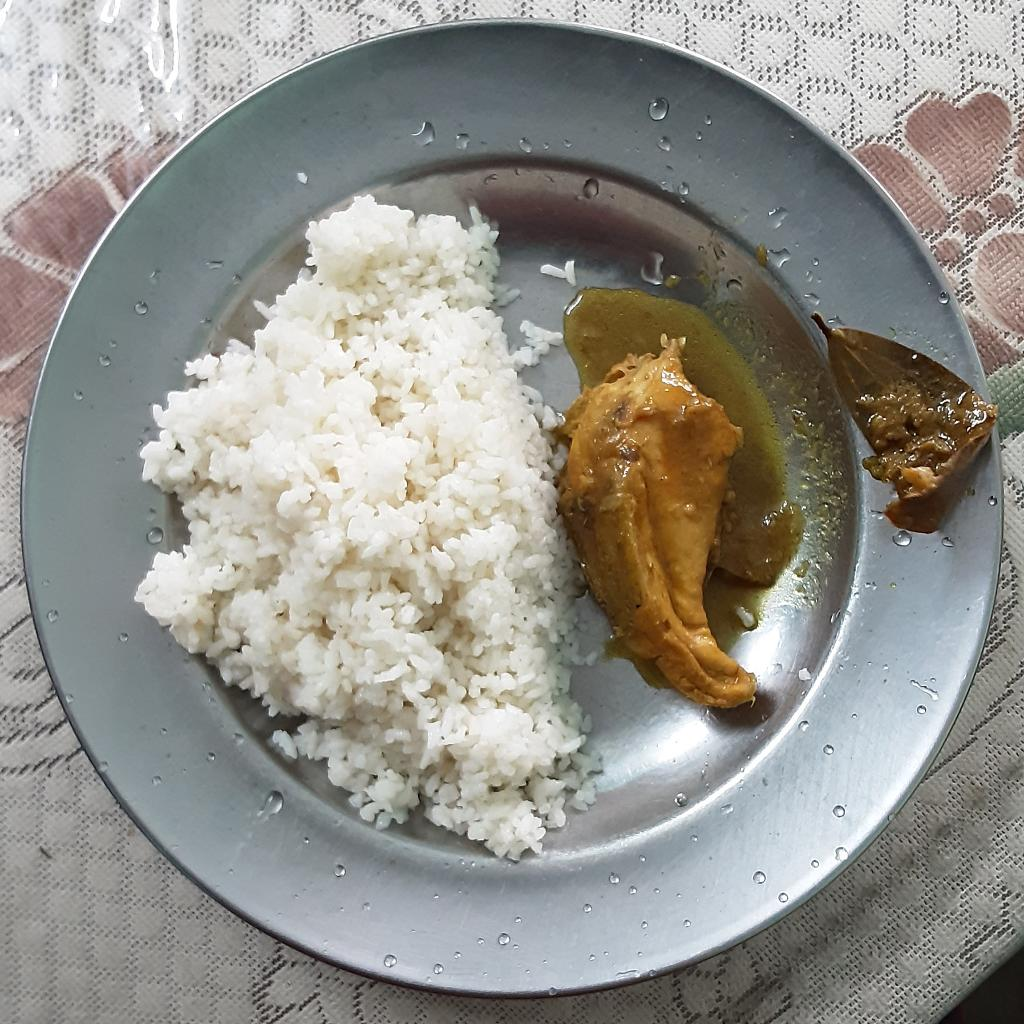chicken: (559, 338, 755, 707)
rice: (133, 189, 602, 864)
